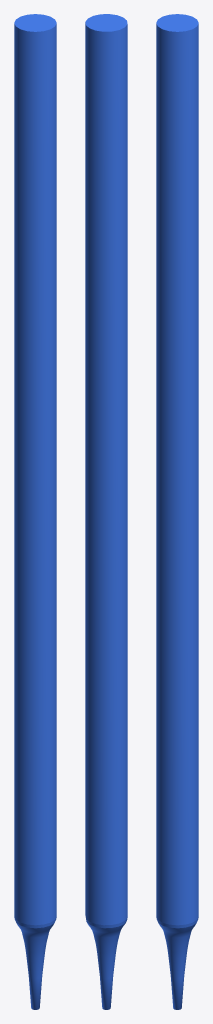
File: Pipet_water_FBX.FBX
3 renders of one model, left to right at view 1: azimuth 90°, elevation 25°; view 2: azimuth 150°, elevation 25°; view 3: azimuth 270°, elevation 25°, orthographic.
Parts seen in each view (by area): view 1: Water; view 2: Water; view 3: Water.
Boxes of the visible parts, left/top/right/bottom form: Water: left=14, top=14, right=56, bottom=1009; Water: left=85, top=14, right=127, bottom=1009; Water: left=156, top=14, right=198, bottom=1009.
Bounding box in the file's own units: 4.81 × 123 × 4.81.
